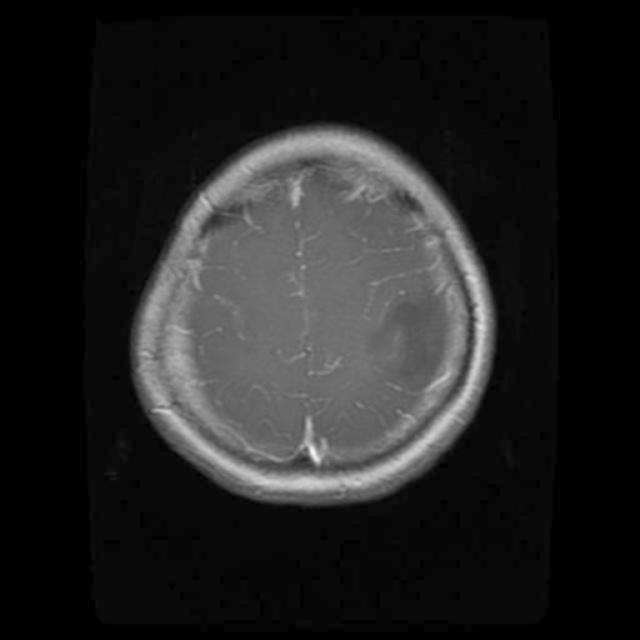pituitary tumor: (376, 300, 446, 386)
